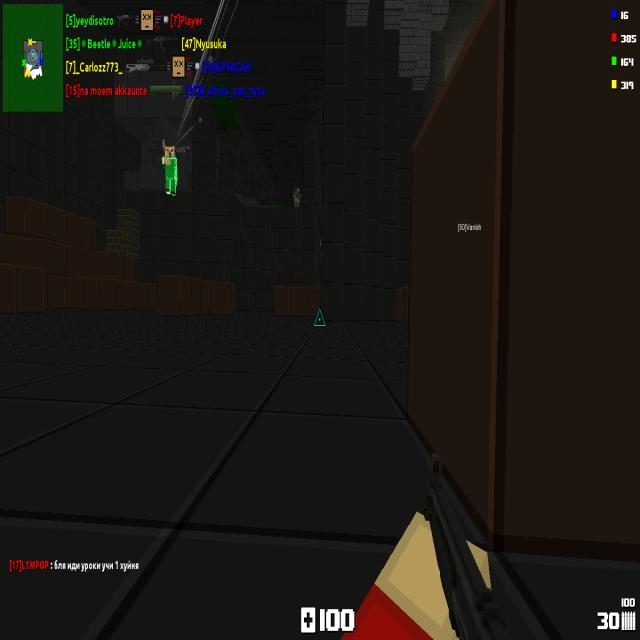enemy: (160, 142, 178, 197), (292, 184, 302, 208)
